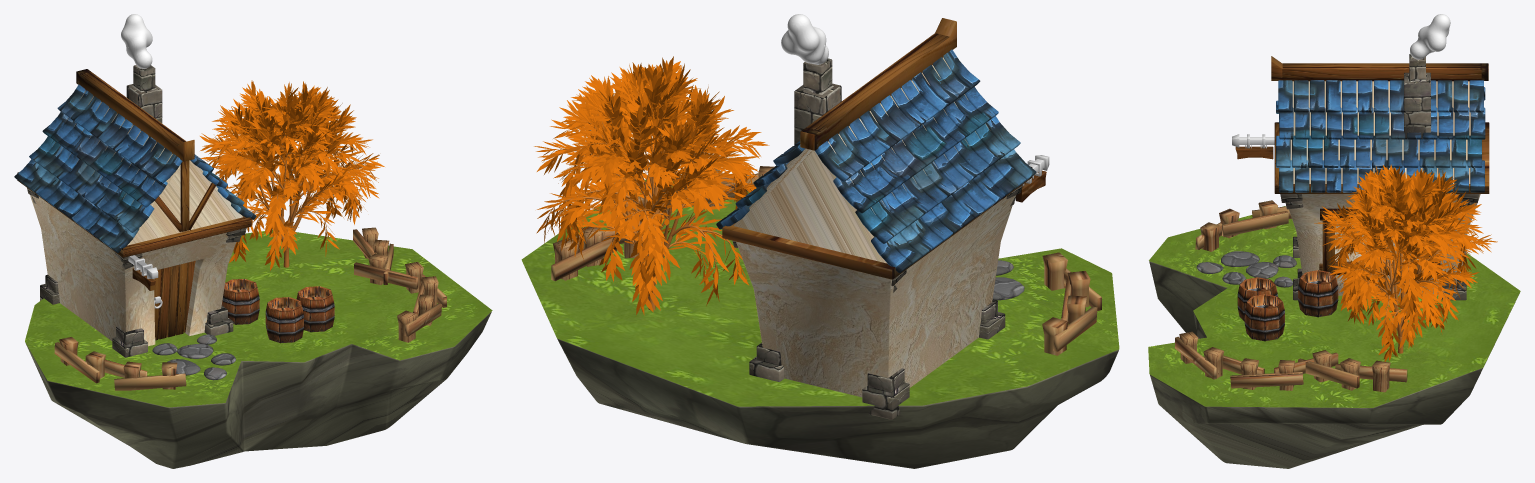
3 views of the same model, side by side, from view 1: azimuth 30°, elevation 25°; view 2: azimuth 150°, elevation 25°; view 3: azimuth 270°, elevation 25° (orthographic). The views are drawn at different scales.
Parts seen in each view (by area): view 1: Grass_1, Rock_0, leaves_7, House_2, Roof_14, Boards_4, object 13, object 18, Round stones_10, tree.001_16, object 14, object 15 (+3 smaller); view 2: Grass_1, House_2, leaves_7, Roof_14, Rock_0, Boards_4, object 13, object 18, tree.001_16, object 4, object 17, Round stones_10; view 3: Grass_1, Roof_14, leaves_7, Rock_0, object 13, Boards_4, House_2, object 4, Round stones_10, object 16, object 15, tree.001_16 (+4 smaller).
Boxes of the visible parts, left/top/right/bottom form: Grass_1: left=25, top=229, right=492, bottom=407; Rock_0: left=25, top=312, right=491, bottom=468; leaves_7: left=200, top=80, right=384, bottom=270; House_2: left=30, top=90, right=242, bottom=346; Roof_14: left=14, top=84, right=256, bottom=252; Boards_4: left=17, top=69, right=251, bottom=340; object 13: left=54, top=227, right=446, bottom=390; object 18: left=27, top=188, right=246, bottom=357; Round stones_10: left=152, top=334, right=235, bottom=380; tree.001_16: left=220, top=103, right=367, bottom=267; object 14: left=265, top=297, right=303, bottom=343; object 15: left=222, top=278, right=259, bottom=324; Grass_1: left=521, top=179, right=1119, bottom=406; House_2: left=733, top=57, right=1015, bottom=397; leaves_7: left=534, top=56, right=769, bottom=315; Roof_14: left=716, top=49, right=1036, bottom=272; Rock_0: left=526, top=270, right=1118, bottom=468; Boards_4: left=722, top=18, right=1046, bottom=279; object 13: left=551, top=166, right=1101, bottom=355; object 18: left=732, top=185, right=1022, bottom=419; tree.001_16: left=546, top=89, right=752, bottom=310; object 4: left=794, top=58, right=841, bottom=144; object 17: left=781, top=14, right=828, bottom=64; Round stones_10: left=992, top=260, right=1024, bottom=300; Grass_1: left=1148, top=206, right=1520, bottom=407; Roof_14: left=1276, top=80, right=1485, bottom=192; leaves_7: left=1314, top=164, right=1497, bottom=361; Rock_0: left=1149, top=261, right=1519, bottom=468; object 13: left=1175, top=200, right=1407, bottom=392; Boards_4: left=1235, top=56, right=1489, bottom=275; House_2: left=1289, top=81, right=1480, bottom=295; object 4: left=1404, top=54, right=1430, bottom=139; Round stones_10: left=1196, top=251, right=1296, bottom=287; object 16: left=1244, top=294, right=1284, bottom=341; object 15: left=1298, top=270, right=1338, bottom=317; tree.001_16: left=1339, top=185, right=1480, bottom=353.
Bounding box in the file's own units: 6.25 × 5.64 × 4.88.
Materials: 17 (13 with a texture image).
